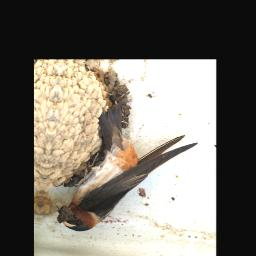Swallow: (55, 120, 201, 244)
